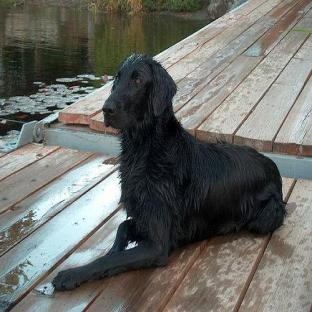Animal: (52, 54, 286, 290)
